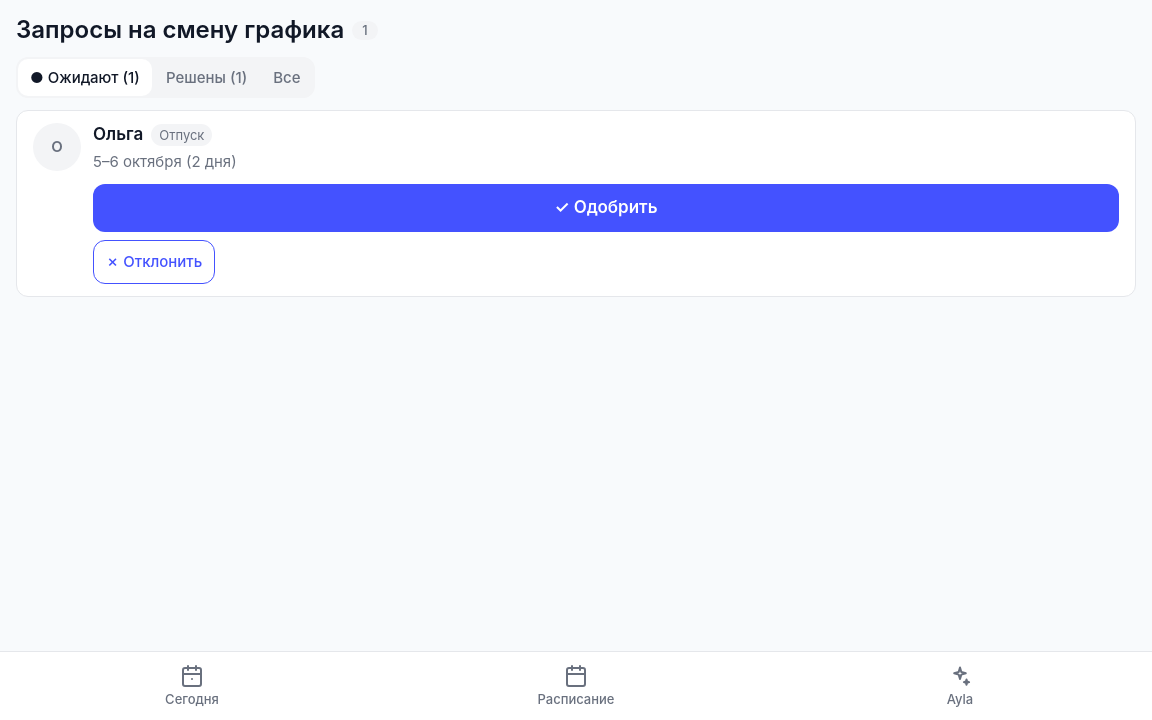
пересечение с расписанием — фраза владельца (§6-кси п.5, DRF-2577) › даты есть — та же фраза, даты отдельной строкой
The image size is (1152, 720).
Expected: the text "Ольга" is shown, [93,123,143,147]
Click the button "✓ Одобрить" at coordinates (606, 208), box [93,184,1119,232]
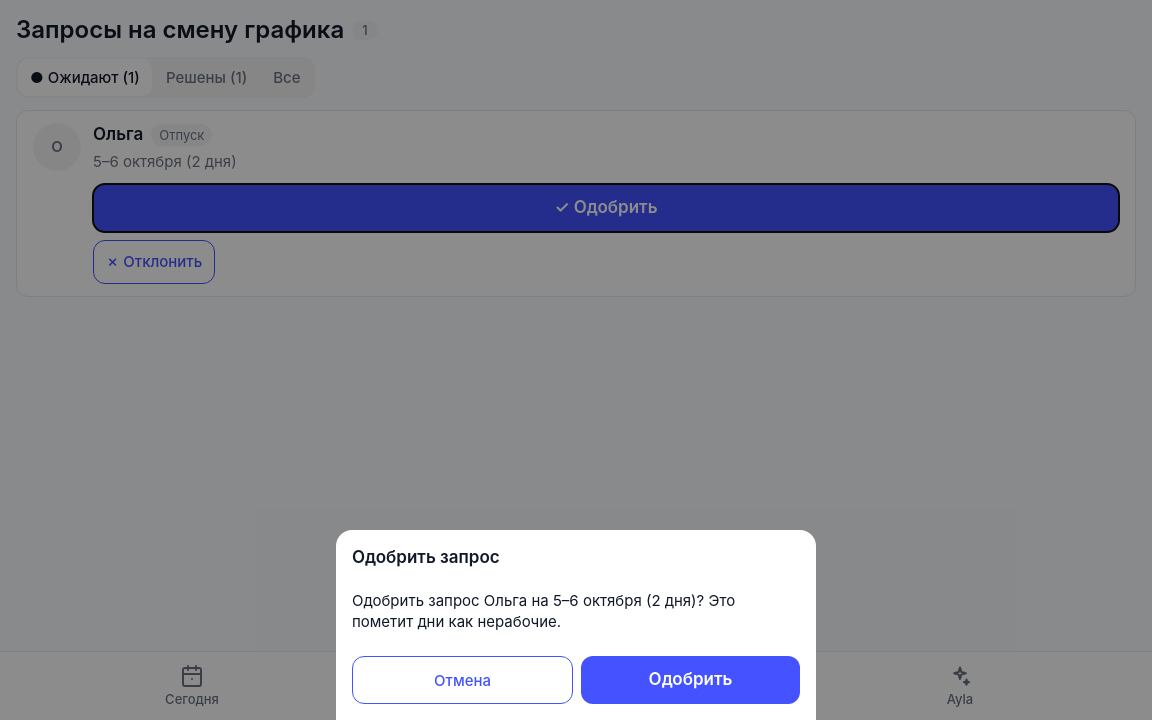
Click the button "Одобрить" at coordinates (690, 680), box [581,656,800,704]
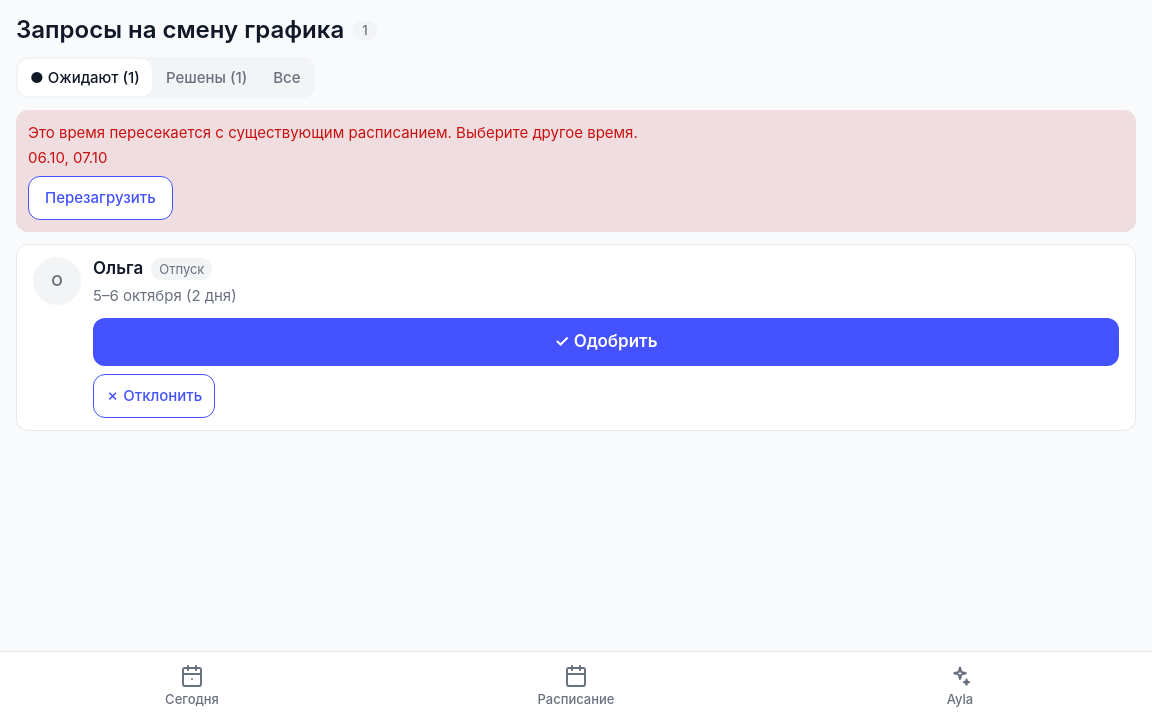
Expected: the message does not show "overlaps approved override on 2026-10-06", [16,110,1136,232]
Result: the text "Это время пересекается с существующим расписанием. Выберите другое время." is shown at [28,123,638,142]
Result: the text "06.10, 07.10" is shown at [28,148,107,167]
